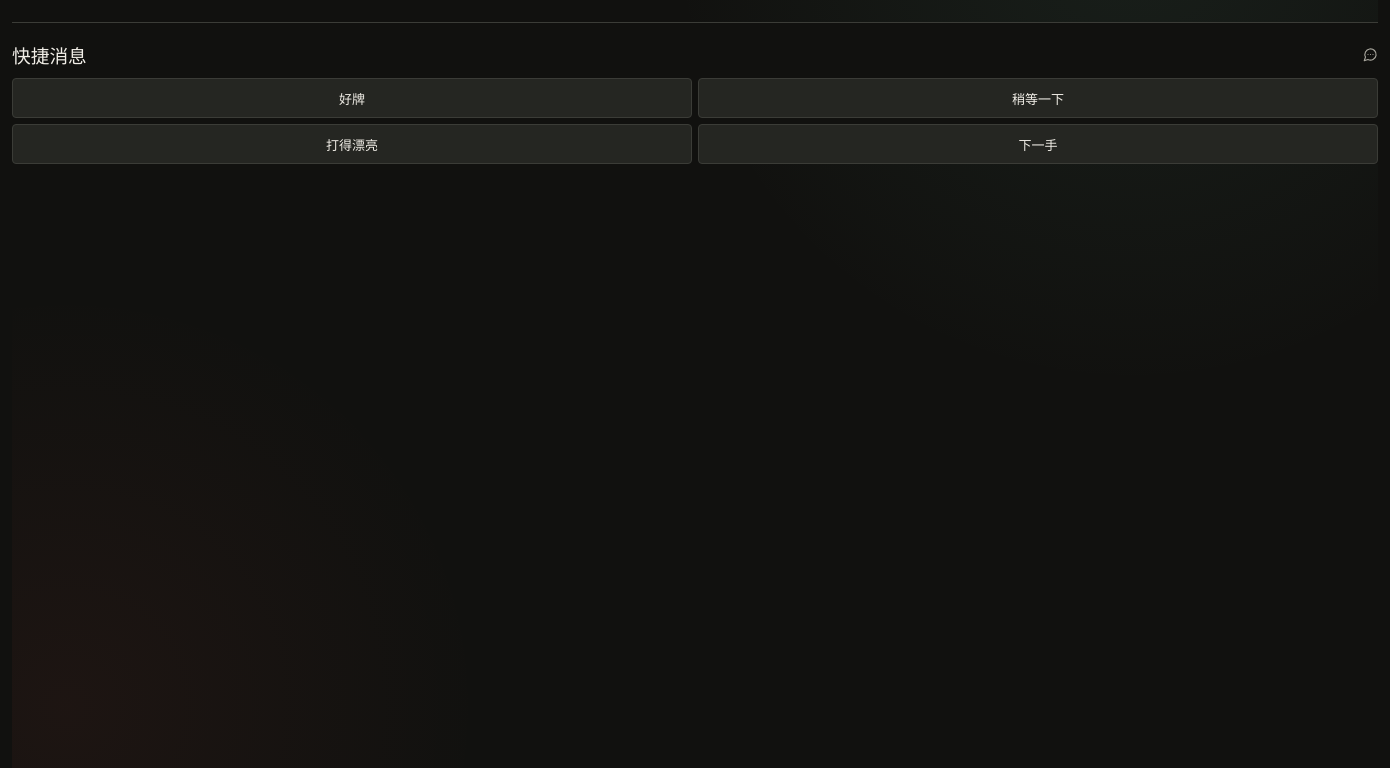
Test case: room controls › sends only one of the fixed quick messages
What coordinates should you click on to do the following:
click the button "好牌"
I would click on:
 (352, 98)
Its box is [12,78,692,118].
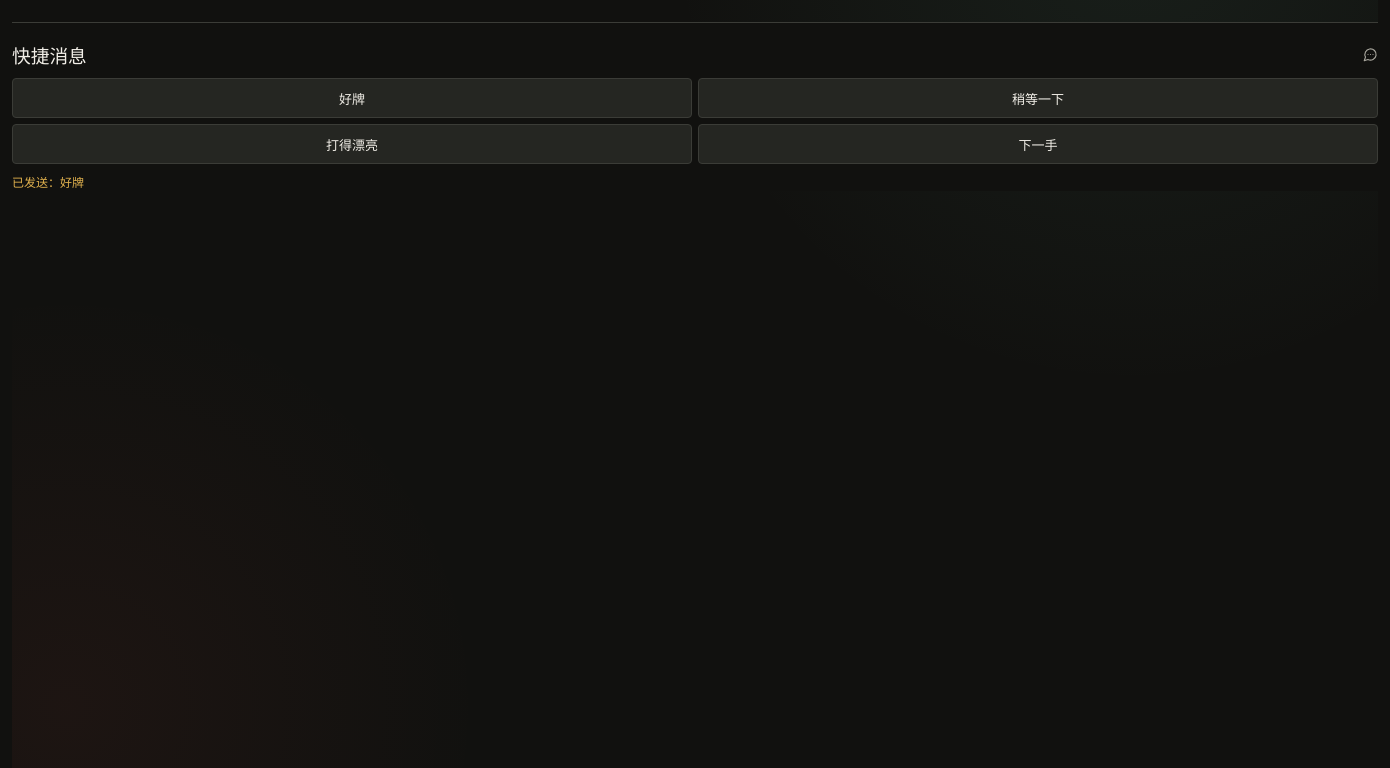
Now the text "已发送：好牌" is shown, box [12,173,84,190]
